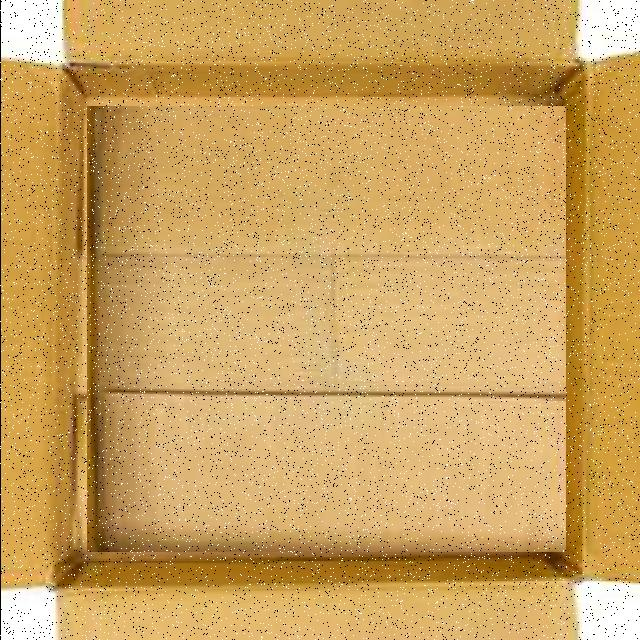normal: (86, 106, 565, 552)
